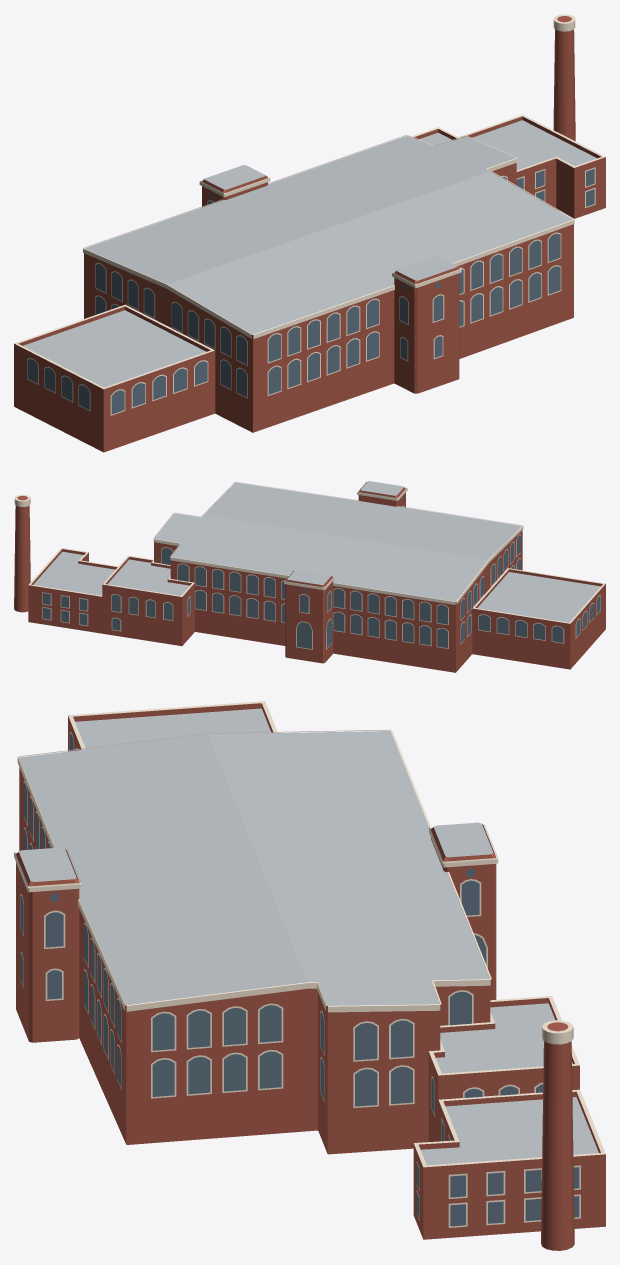
3 renders of one model, top to bottom at view 1: azimuth 30°, elevation 25°; view 2: azimuth 150°, elevation 25°; view 3: azimuth 270°, elevation 25°, orthographic. The views are drawn at different scales.
Visible parts, largest first — view 1: mecklenburg-mill-lofts-at-noda-mills; view 2: mecklenburg-mill-lofts-at-noda-mills; view 3: mecklenburg-mill-lofts-at-noda-mills.
Boxes of the visible parts, bbox=[...] form: mecklenburg-mill-lofts-at-noda-mills: bbox=[14, 14, 605, 452]; mecklenburg-mill-lofts-at-noda-mills: bbox=[14, 481, 605, 672]; mecklenburg-mill-lofts-at-noda-mills: bbox=[14, 701, 605, 1250].
Bounding box in the file's own units: 102 × 22.5 × 55.62.
